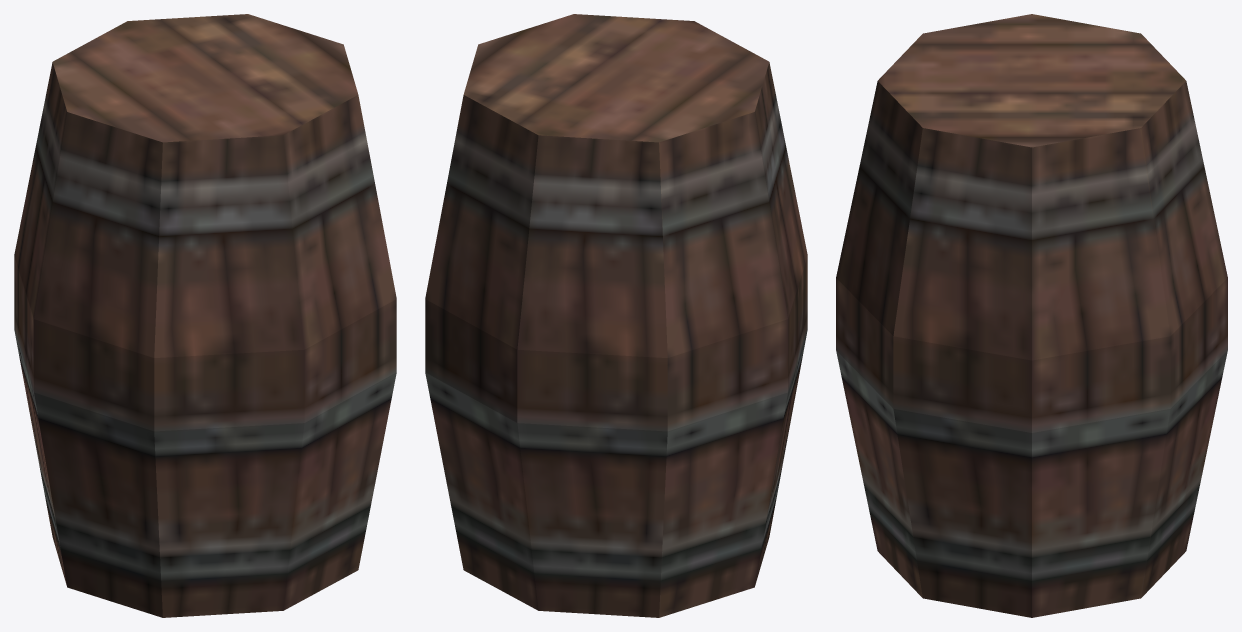
File: ob-b1-005-woodbarrel.fbx
3 renders of one model, left to right at view 1: azimuth 30°, elevation 25°; view 2: azimuth 150°, elevation 25°; view 3: azimuth 270°, elevation 25°, orthographic.
Visible parts, largest first — view 1: woodbarrel; view 2: woodbarrel; view 3: woodbarrel.
Part boxes in pixels (x1,y1,x2,y2): woodbarrel: (14, 14, 396, 617); woodbarrel: (425, 14, 807, 617); woodbarrel: (836, 14, 1227, 617).
Bounding box in the file's own units: 0.7553 × 1 × 0.7553.
